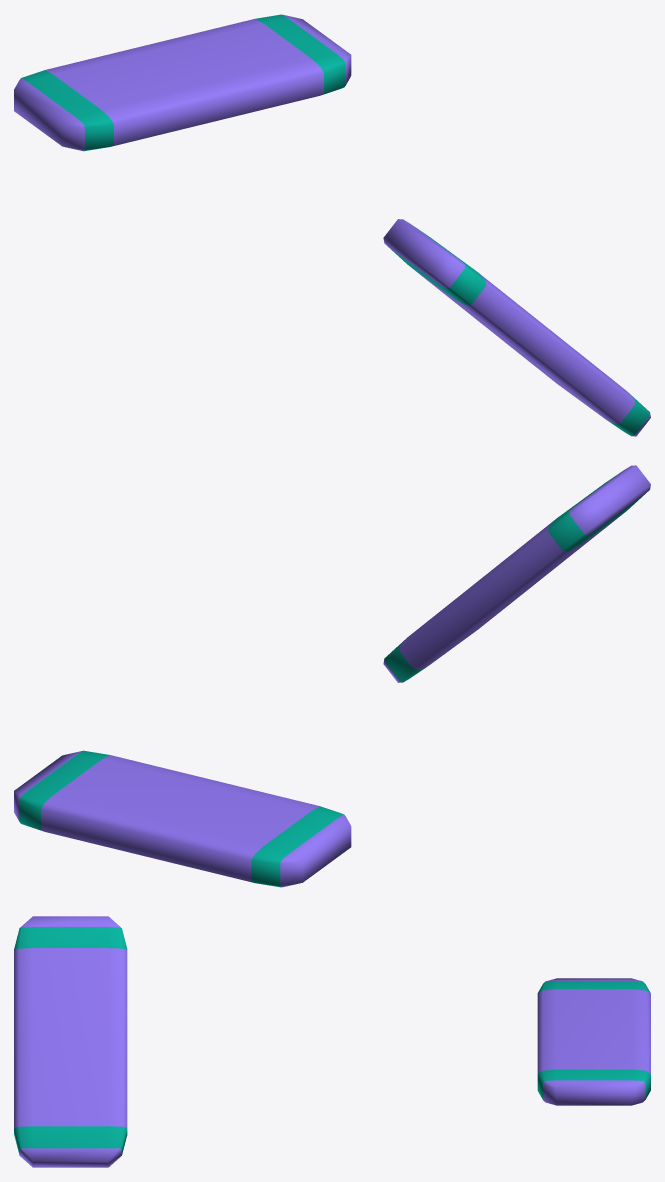
Rendered from rotating_platform2x.glb.
3 views of the same model, one above another, from view 1: azimuth 30°, elevation 25°; view 2: azimuth 150°, elevation 25°; view 3: azimuth 270°, elevation 25° (orthographic). The views are drawn at different scales.
Parts seen in each view (by area): view 1: Cube.008, Cube.006; view 2: Cube.008, Cube.006; view 3: Cube.006, Cube.008.
Boxes of the visible parts, <box> form: Cube.008: <box>14,14,351,151</box>; Cube.006: <box>383,219,650,436</box>; Cube.008: <box>14,750,351,887</box>; Cube.006: <box>383,465,650,682</box>; Cube.006: <box>14,916,127,1167</box>; Cube.008: <box>537,978,650,1105</box>.
Size of what is drawn, in the model's own units: 4.98 by 3.77 by 12.16.
Materials: 1 (1 with a texture image).
